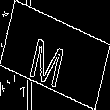M_N: (34, 24, 76, 86)
